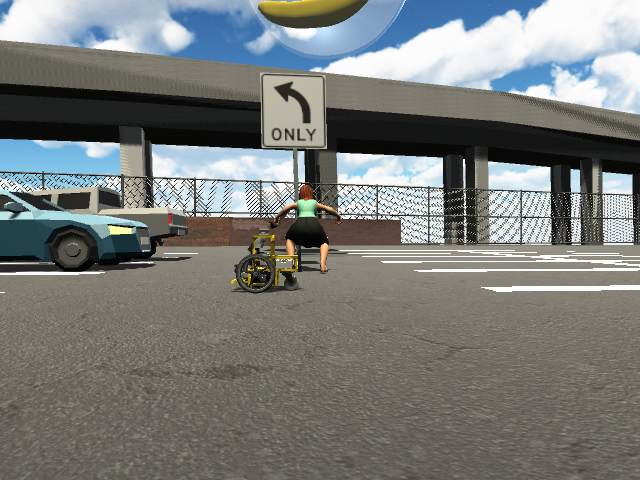arrow_left: (274, 78, 313, 124)
